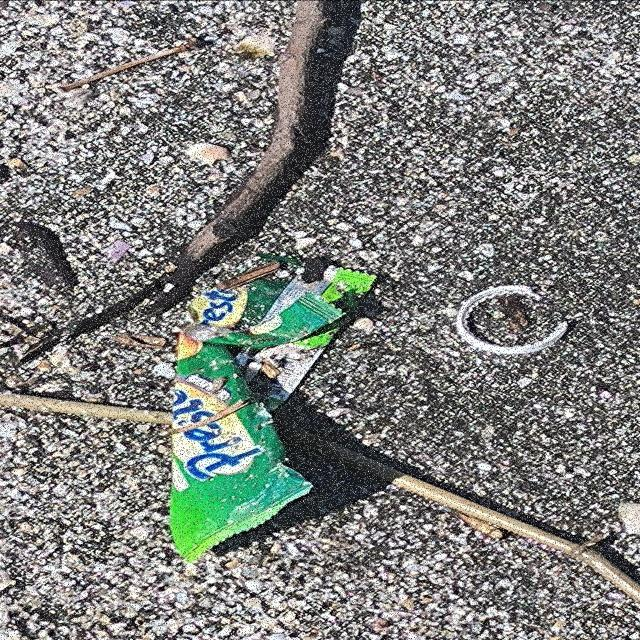plastic_waste: (169, 250, 380, 565)
